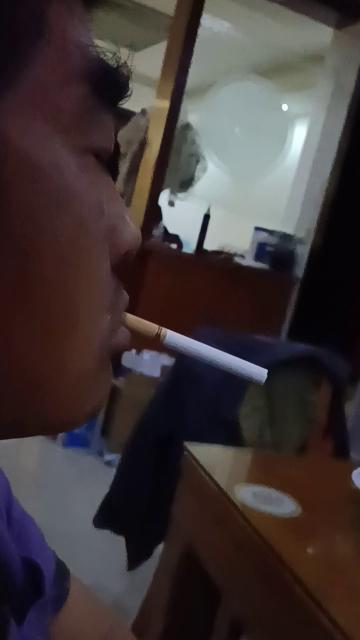Cigarette: (123, 311, 271, 385)
